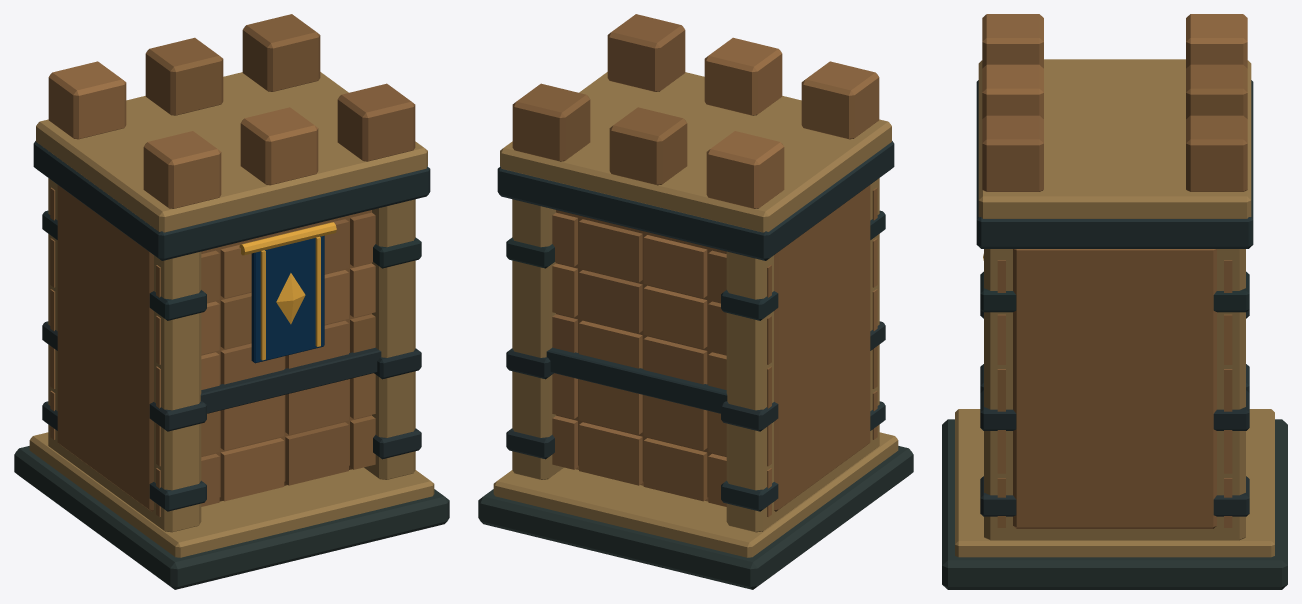
The model's file is wall_2.glb.
The picture shows the model from 3 angles, left to right: view 1: azimuth 30°, elevation 25°; view 2: azimuth 150°, elevation 25°; view 3: azimuth 270°, elevation 25°; orthographic projection. The views are drawn at different scales.
Visible parts, largest first — view 1: wall_2_structure, wall_2_brass; view 2: wall_2_structure; view 3: wall_2_structure.
Boxes of the visible parts, left/top/right/bottom form: wall_2_structure: left=14, top=14, right=449, bottom=589; wall_2_brass: left=239, top=222, right=336, bottom=360; wall_2_structure: left=478, top=14, right=913, bottom=589; wall_2_structure: left=942, top=14, right=1287, bottom=589.
Bounding box in the file's own units: 1.9 × 2.68 × 1.9.
